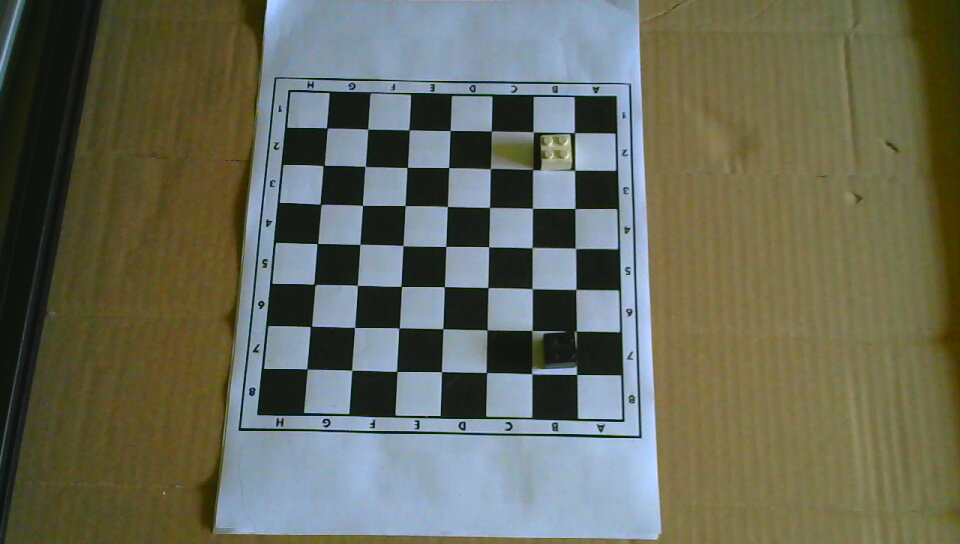bp: (539, 329, 578, 369)
wp: (536, 129, 575, 171)
